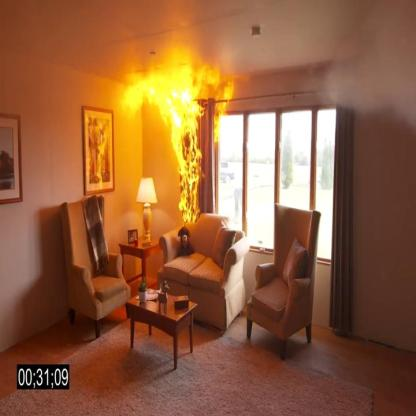fire: (118, 63, 235, 225)
